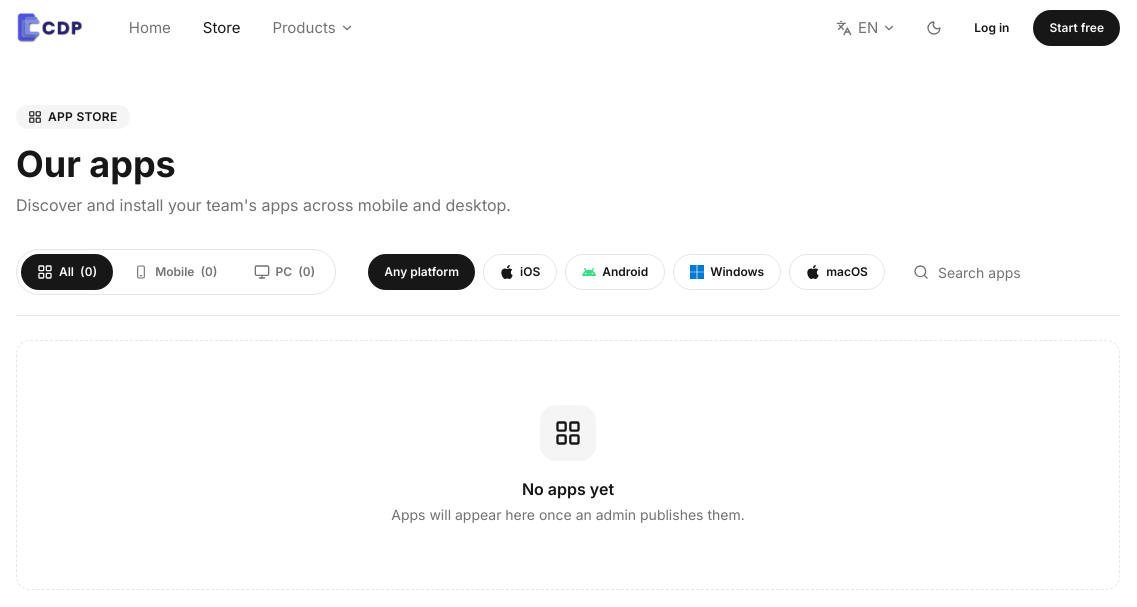
Scenario: /store — translated in every locale › translates the empty and no-match states in en
expect the text "No apps yet" is shown: met, box [522,477,614,501]
expect the text "Apps will appear here once an admin publishes them." is shown: met, box [391,505,745,525]
Click the tab "Mobile (0)" at (175, 272), box [117,254,234,290]
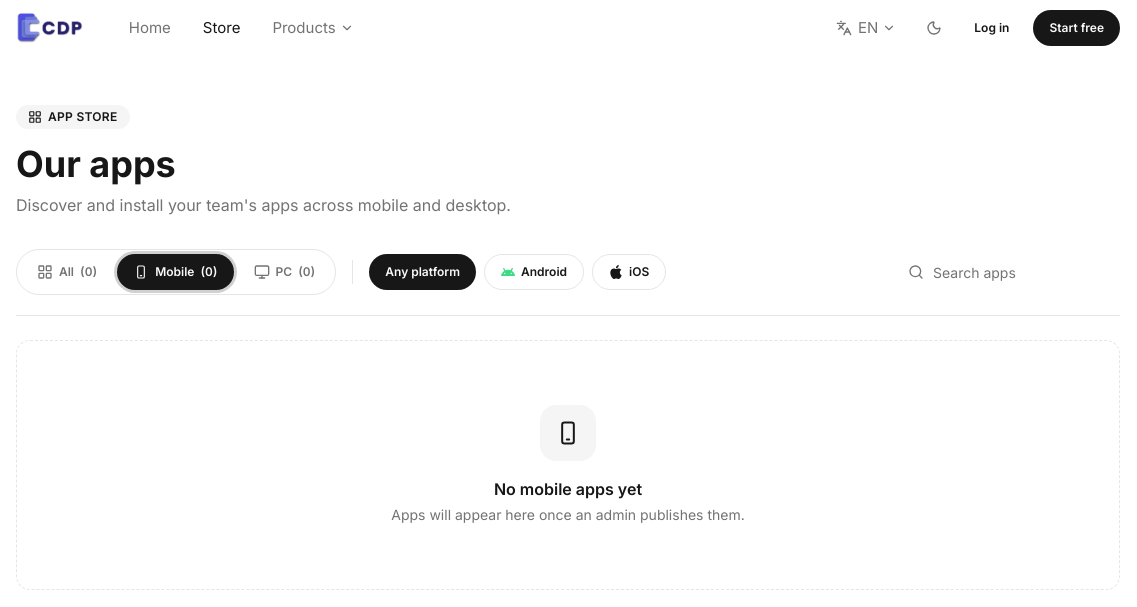
expect the text "No mobile apps yet" is shown: met, box [494,477,642,501]
Type "zzz" into the search field with placeholder "Search apps" at (1008, 272), box [896,252,1120,292]
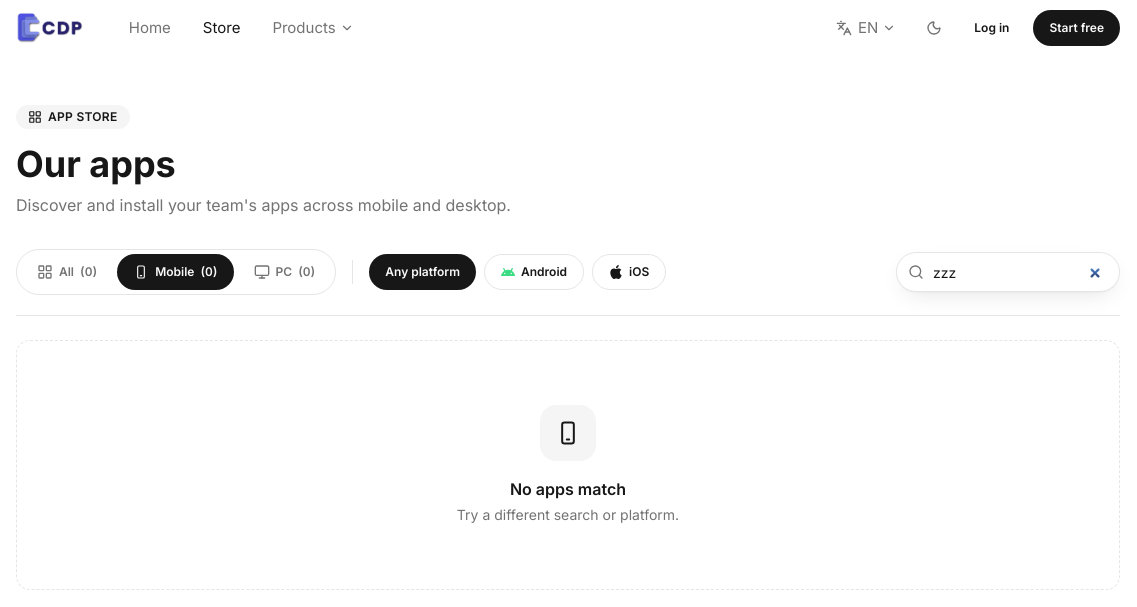
expect the text "No apps match" is shown: met, box [510,477,626,501]
expect the text "Try a different search or platform." is shown: met, box [457,505,679,525]
